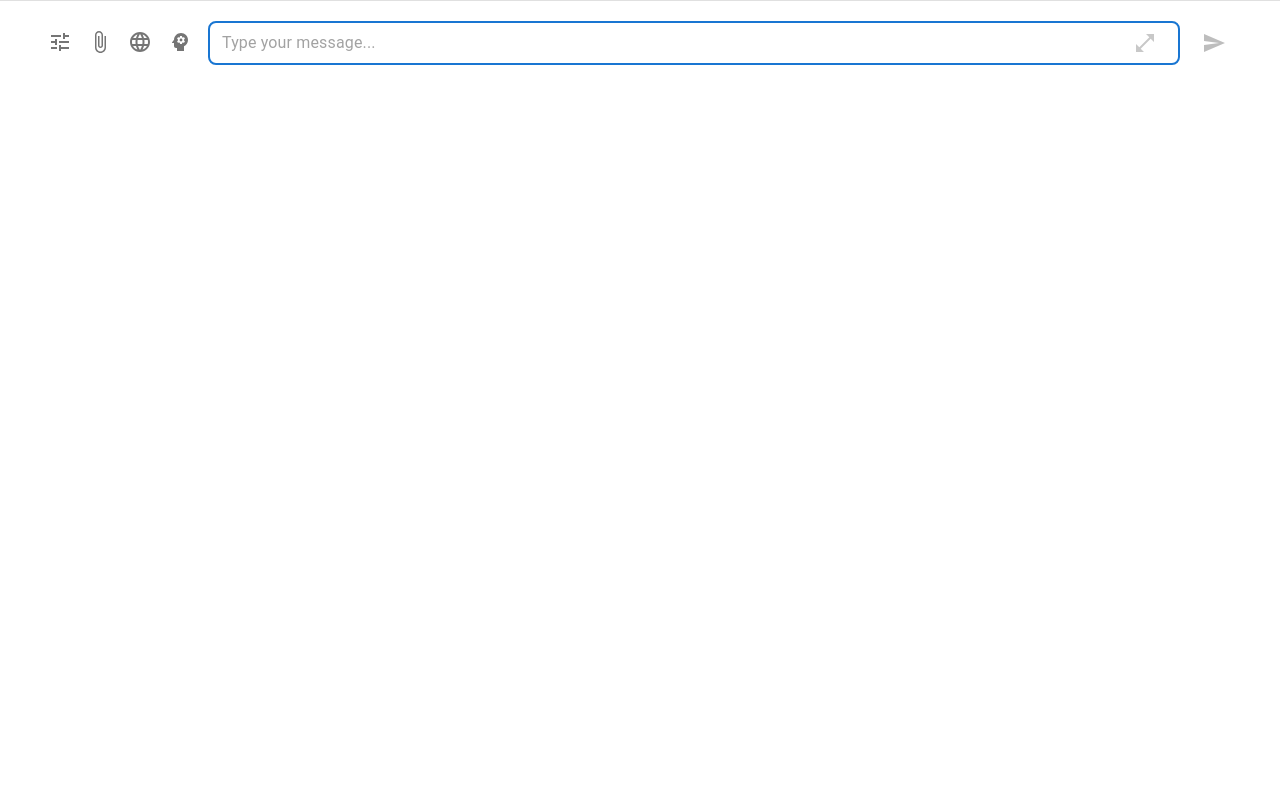
Test case: Composer › shows thinking toggle when model supports thinking
Click the button named "Chat settings" at (60, 42), box [40,22,80,62]
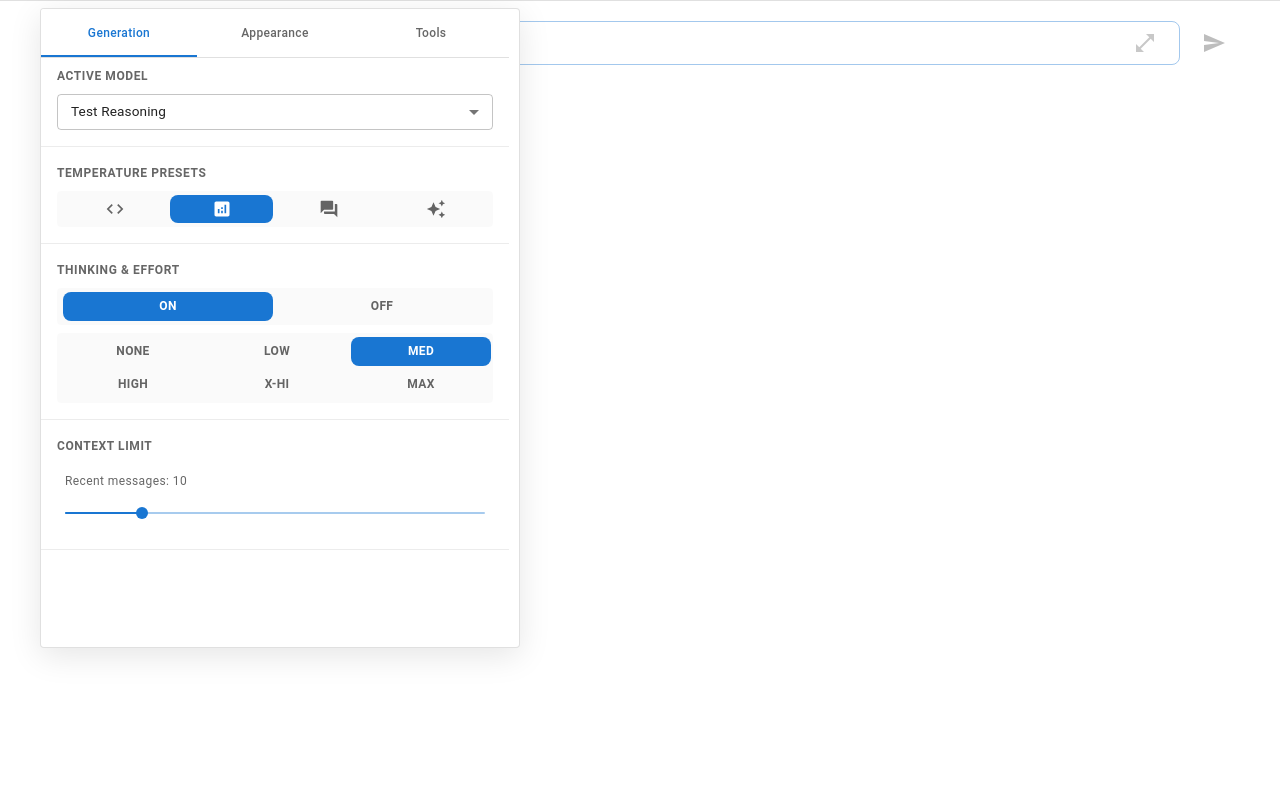
Check: the list item "Thinking & Effort" is shown, box [57,262,180,276]
Check: the text "On" is shown, box [159,296,177,316]
Check: the text "Off" is shown, box [371,296,393,316]
